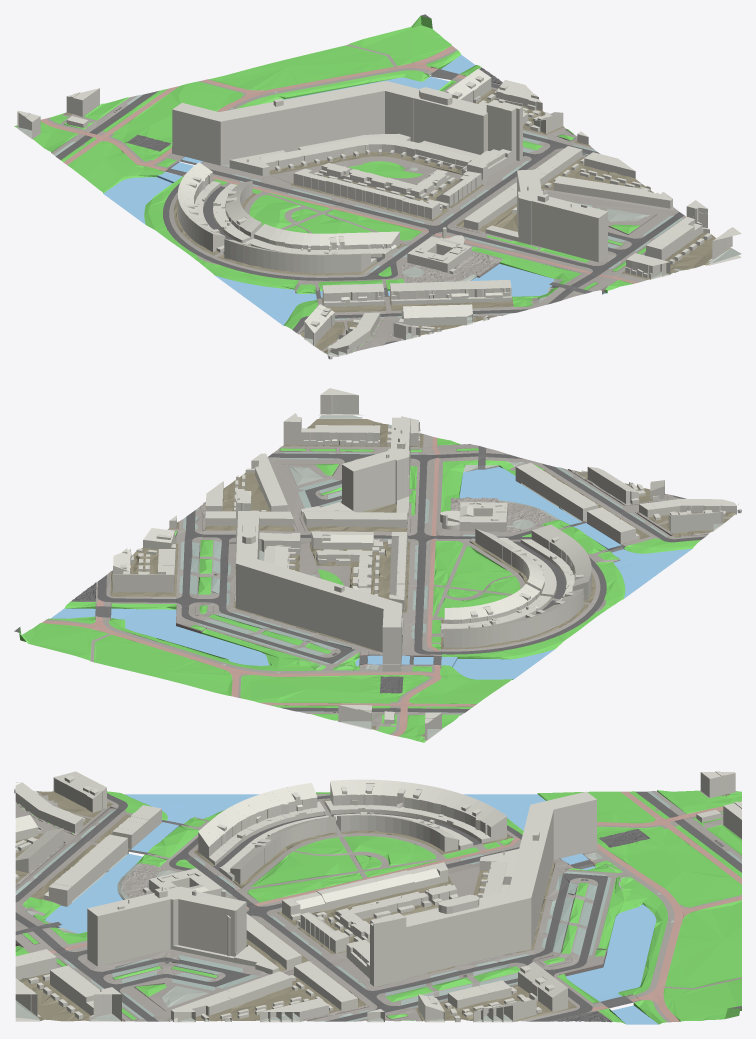
File: florijn2.glb
3 views of the same model, one above another, from view 1: azimuth 30°, elevation 25°; view 2: azimuth 150°, elevation 25°; view 3: azimuth 270°, elevation 25° (orthographic). The views are drawn at different scales.
Visible parts, largest first — view 1: Gebouwen, Begroeid, Voetpaden, Wegen, Erven, Water, Fietspaden, Parkeervakken, Onbegroeid, Bruggen; view 2: Gebouwen, Begroeid, Voetpaden, Wegen, Water, Erven, Parkeervakken, Fietspaden, Onbegroeid, Constructies, Bruggen; view 3: Gebouwen, Begroeid, Voetpaden, Wegen, Water, Erven, Parkeervakken, Fietspaden, Onbegroeid, Constructies, Bruggen.
Boxes of the visible parts, x1,y1,x2,y2 form: Gebouwen: (17, 68, 741, 357); Begroeid: (14, 16, 645, 351); Voetpaden: (17, 44, 685, 353); Wegen: (56, 14, 684, 345); Erven: (64, 89, 730, 354); Water: (103, 55, 606, 325); Fietspaden: (40, 46, 637, 283); Parkeervakken: (54, 94, 682, 319); Onbegroeid: (17, 91, 741, 356); Bruggen: (165, 68, 591, 298); Gebouwen: (112, 388, 739, 740); Begroeid: (19, 438, 700, 742); Voetpaden: (45, 434, 731, 740); Wegen: (14, 453, 705, 712); Water: (51, 467, 692, 679); Erven: (110, 419, 736, 736); Parkeervakken: (179, 452, 666, 713); Fietspaden: (42, 437, 476, 736); Onbegroeid: (142, 415, 738, 739); Constructies: (95, 444, 649, 668); Bruggen: (95, 446, 625, 665); Gebouwen: (15, 771, 741, 1022); Begroeid: (15, 790, 741, 1024); Voetpaden: (15, 790, 741, 1022); Wegen: (15, 791, 741, 1022); Water: (45, 794, 658, 1024); Erven: (15, 791, 730, 1021); Parkeervakken: (15, 791, 741, 1021); Fietspaden: (50, 791, 741, 1021); Onbegroeid: (15, 819, 701, 1021); Constructies: (15, 814, 641, 1020); Bruggen: (15, 820, 633, 1008).
Size of what is drawn, in the model's own units: 35.77 by 4.78 by 47.65.
